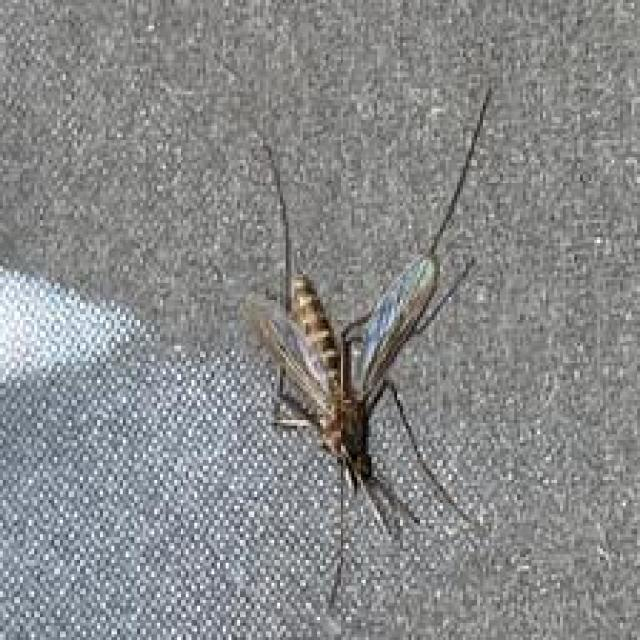Culex: (234, 83, 497, 614)
